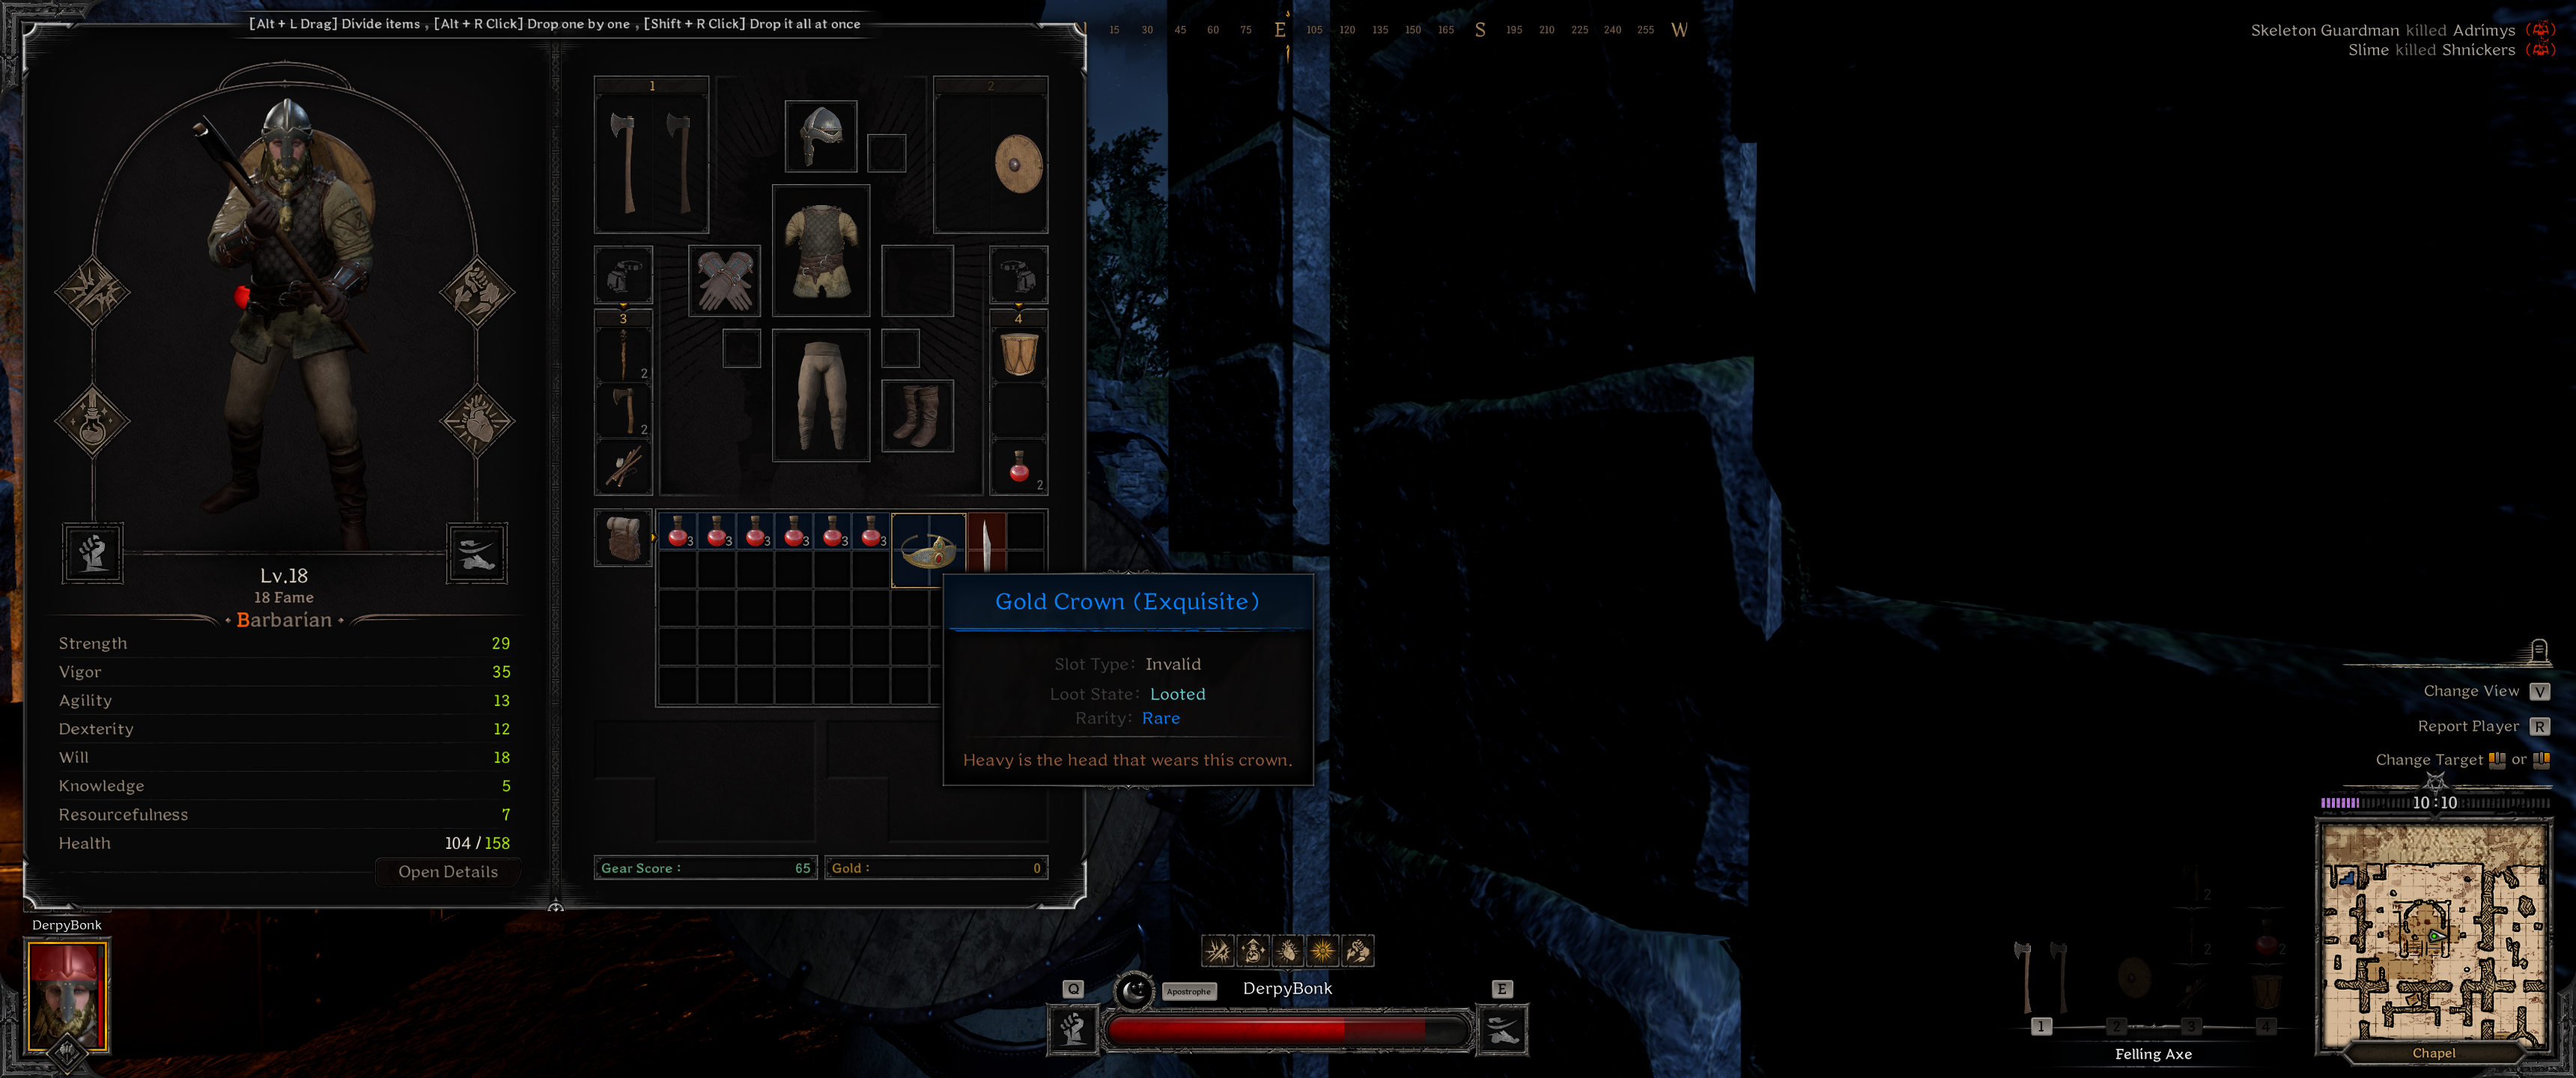Tooltip: (941, 572, 1314, 787)
